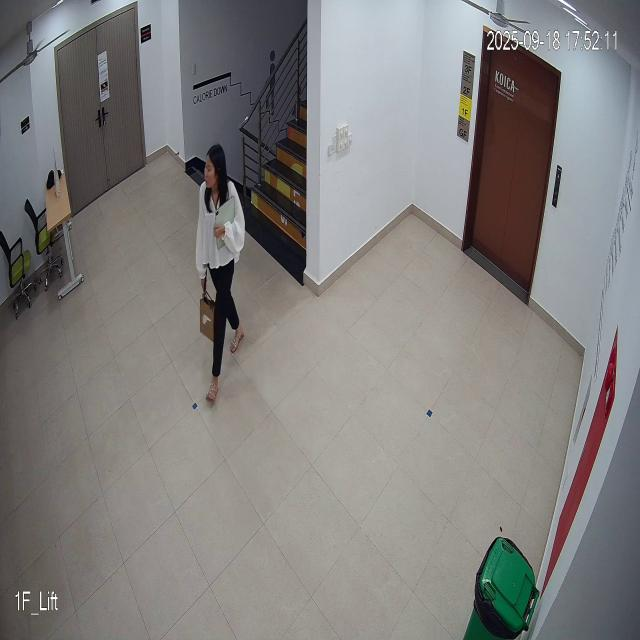face: (202, 144, 224, 196)
